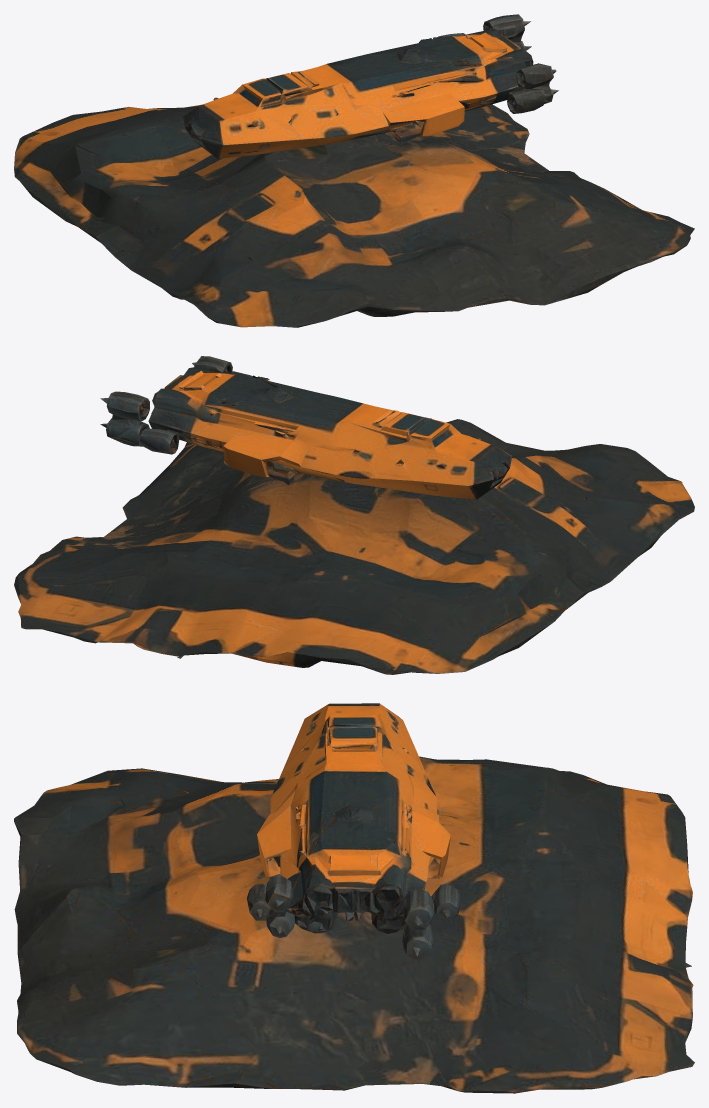
Rendered from nation-aa-cruiser.glb.
The picture shows the model from 3 angles, top to bottom: view 1: azimuth 30°, elevation 25°; view 2: azimuth 150°, elevation 25°; view 3: azimuth 270°, elevation 25°; orthographic projection. The views are drawn at different scales.
Size of the model in its own units: 1.89 by 0.5991 by 1.9.
1 material, 1 textured.
